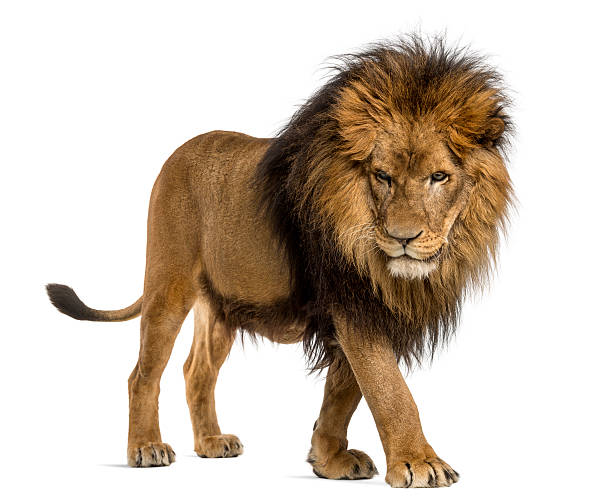lion: (246, 10, 516, 377)
